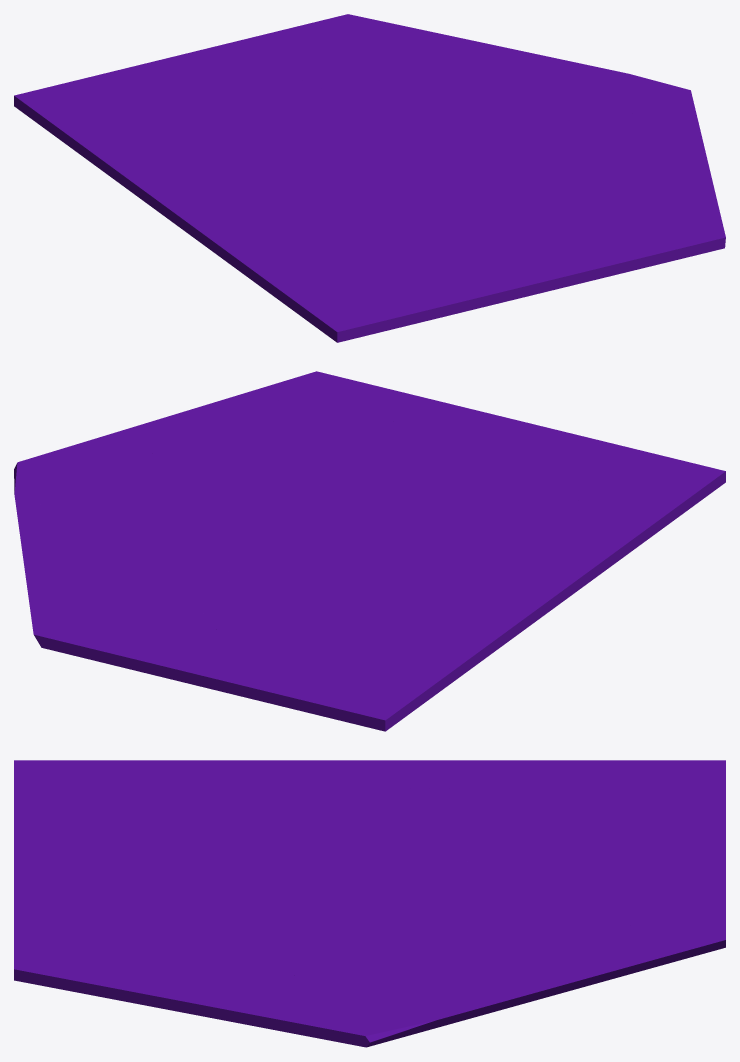
File: Exhibition_18.003_0_chunks.fbx
The picture shows the model from 3 angles, top to bottom: view 1: azimuth 30°, elevation 25°; view 2: azimuth 150°, elevation 25°; view 3: azimuth 270°, elevation 25°; orthographic projection. The views are drawn at different scales.
Visible parts, largest first — view 1: Exhibition_18.003_0_8, Exhibition_18.003_0_3, Exhibition_18.003_0_5, Exhibition_18.003_0_11, Exhibition_18.003_0_7, Exhibition_18.003_0_18, Exhibition_18.003_0_20, Exhibition_18.003_0_6, Exhibition_18.003_0_2, Exhibition_18.003_0_9, Exhibition_18.003_0_14, Exhibition_18.003_0_1 (+9 smaller); view 2: Exhibition_18.003_0_8, Exhibition_18.003_0_3, Exhibition_18.003_0_5, Exhibition_18.003_0_2, Exhibition_18.003_0_11, Exhibition_18.003_0_7, Exhibition_18.003_0_6, Exhibition_18.003_0_14, Exhibition_18.003_0_20, Exhibition_18.003_0_1, Exhibition_18.003_0_10, Exhibition_18.003_0_9 (+9 smaller); view 3: Exhibition_18.003_0_8, Exhibition_18.003_0_3, Exhibition_18.003_0_11, Exhibition_18.003_0_5, Exhibition_18.003_0_7, Exhibition_18.003_0_6, Exhibition_18.003_0_2, Exhibition_18.003_0_14, Exhibition_18.003_0_9, Exhibition_18.003_0_10, Exhibition_18.003_0_20, Exhibition_18.003_0_1 (+10 smaller).
Boxes of the visible parts, <box> form: Exhibition_18.003_0_8: <box>476,141,719,210</box>; Exhibition_18.003_0_3: <box>14,59,279,131</box>; Exhibition_18.003_0_5: <box>299,149,450,327</box>; Exhibition_18.003_0_11: <box>376,20,547,131</box>; Exhibition_18.003_0_7: <box>351,141,516,266</box>; Exhibition_18.003_0_18: <box>460,227,663,311</box>; Exhibition_18.003_0_20: <box>311,256,464,342</box>; Exhibition_18.003_0_6: <box>87,116,453,176</box>; Exhibition_18.003_0_2: <box>163,14,391,81</box>; Exhibition_18.003_0_9: <box>511,209,725,262</box>; Exhibition_18.003_0_14: <box>190,153,316,262</box>; Exhibition_18.003_0_1: <box>298,41,466,143</box>; Exhibition_18.003_0_8: <box>122,388,365,518</box>; Exhibition_18.003_0_3: <box>215,602,409,731</box>; Exhibition_18.003_0_5: <box>271,491,704,560</box>; Exhibition_18.003_0_2: <box>31,603,227,691</box>; Exhibition_18.003_0_11: <box>22,512,228,619</box>; Exhibition_18.003_0_7: <box>240,465,577,524</box>; Exhibition_18.003_0_6: <box>263,523,400,681</box>; Exhibition_18.003_0_14: <box>397,519,592,612</box>; Exhibition_18.003_0_20: <box>528,441,725,500</box>; Exhibition_18.003_0_1: <box>69,522,255,619</box>; Exhibition_18.003_0_10: <box>94,430,243,528</box>; Exhibition_18.003_0_9: <box>262,371,399,466</box>; Exhibition_18.003_0_8: <box>59,900,369,1022</box>; Exhibition_18.003_0_3: <box>503,760,725,874</box>; Exhibition_18.003_0_11: <box>397,920,700,1000</box>; Exhibition_18.003_0_5: <box>71,760,376,906</box>; Exhibition_18.003_0_7: <box>153,802,374,921</box>; Exhibition_18.003_0_6: <box>365,778,637,909</box>; Exhibition_18.003_0_2: <box>607,840,725,954</box>; Exhibition_18.003_0_14: <box>186,784,478,837</box>; Exhibition_18.003_0_9: <box>14,894,192,988</box>; Exhibition_18.003_0_10: <box>238,918,420,1028</box>; Exhibition_18.003_0_20: <box>14,760,158,837</box>; Exhibition_18.003_0_1: <box>372,884,639,942</box>.
Bounding box in the file's own units: 811 × 16.07 × 883.
